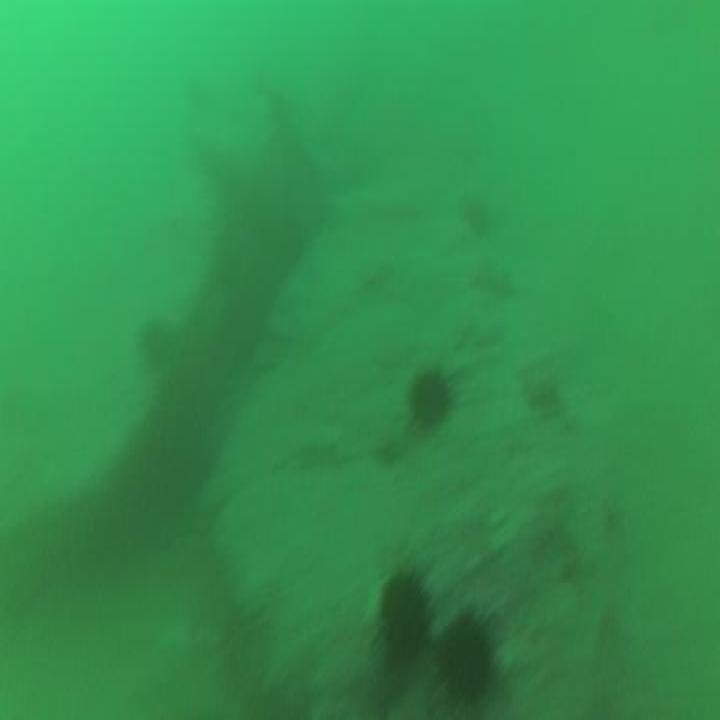echinus: (424, 596, 507, 711), (373, 555, 433, 677), (400, 358, 462, 446)
